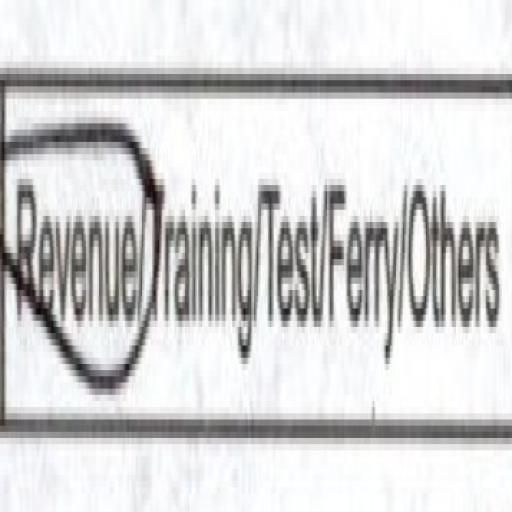check: (3, 0, 147, 479)
